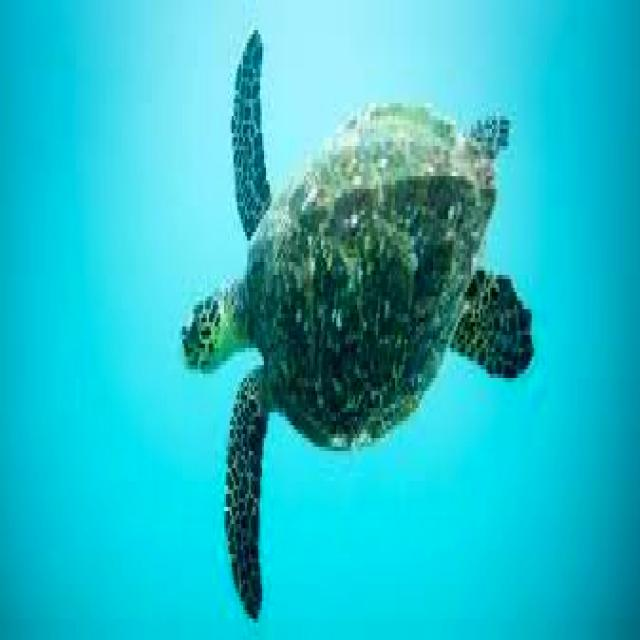turtle: (180, 30, 532, 614)
